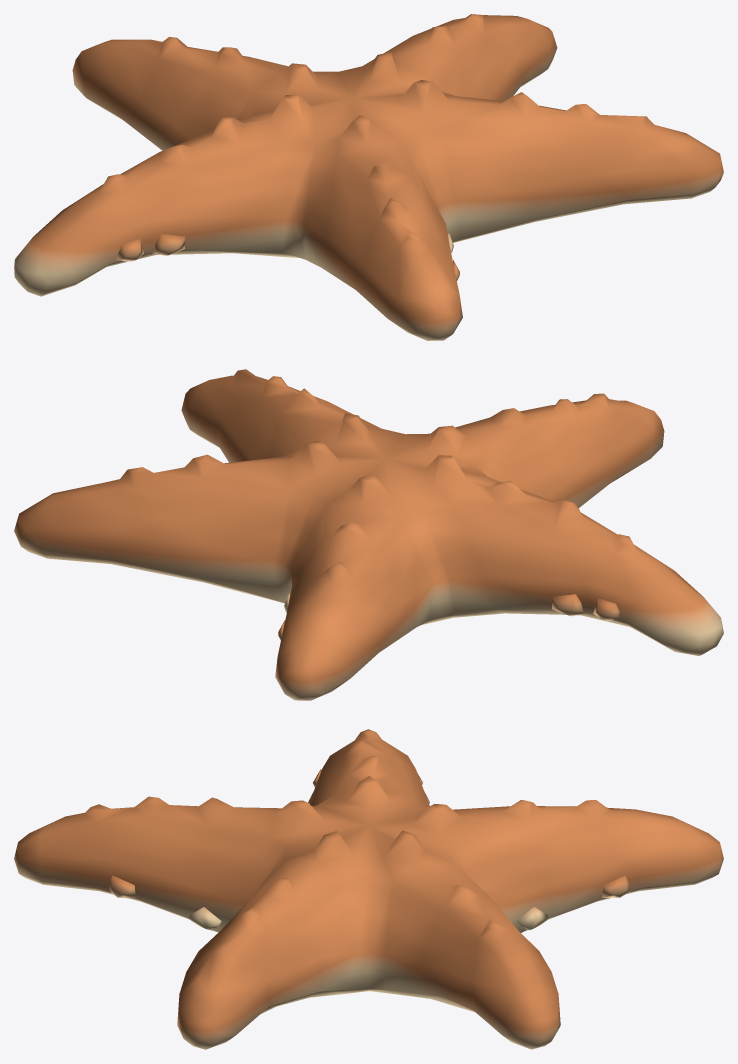
The model's file is starfish.fbx.
The picture shows the model from 3 angles, top to bottom: view 1: azimuth 30°, elevation 25°; view 2: azimuth 150°, elevation 25°; view 3: azimuth 270°, elevation 25°; orthographic projection.
Parts seen in each view (by area): view 1: starfish; view 2: starfish; view 3: starfish.
Boxes of the visible parts, left/top/right/bottom form: starfish: left=14, top=14, right=723, bottom=340; starfish: left=14, top=369, right=723, bottom=700; starfish: left=14, top=729, right=723, bottom=1049.
Bounding box in the file's own units: 0.1781 × 0.0377 × 0.18.
Materials: 1 (1 with a texture image).
